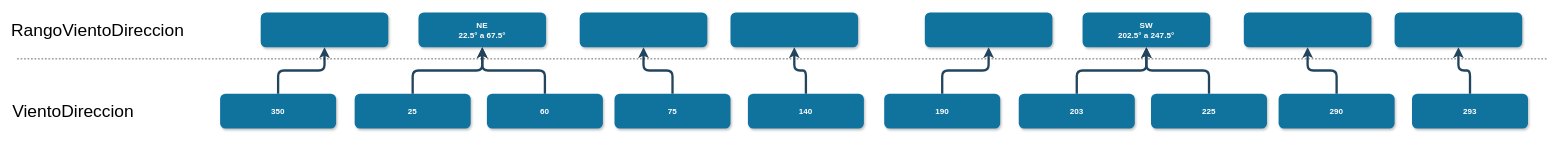
Image size: 1559x142. Some labels were removed from this diagram. Here are the shapes that lost their labels. From the top down, the centre of each, then its label:
the point at 325,30: N 337.5° a 22.5°
the point at 643,30: E 67.5° a 112.5°
the point at 794,30: SE 112.5° a 157.5°
the point at 989,30: S 157.5° a 202.5°
the point at 1308,30: W 247.5° a 292.5°
the point at 1458,30: NW 292.5° a 337.5°
